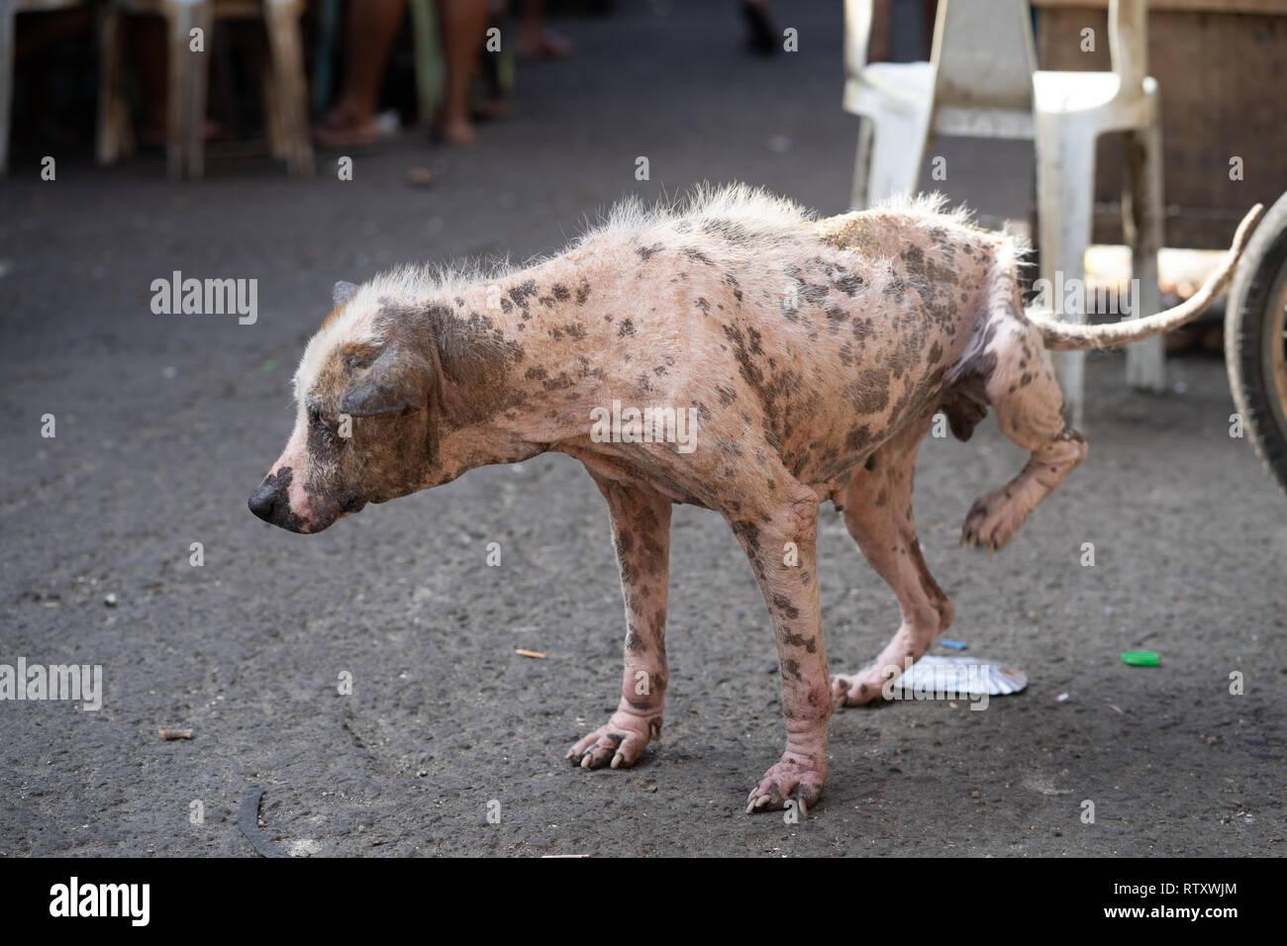infection: (323, 177, 1131, 797)
